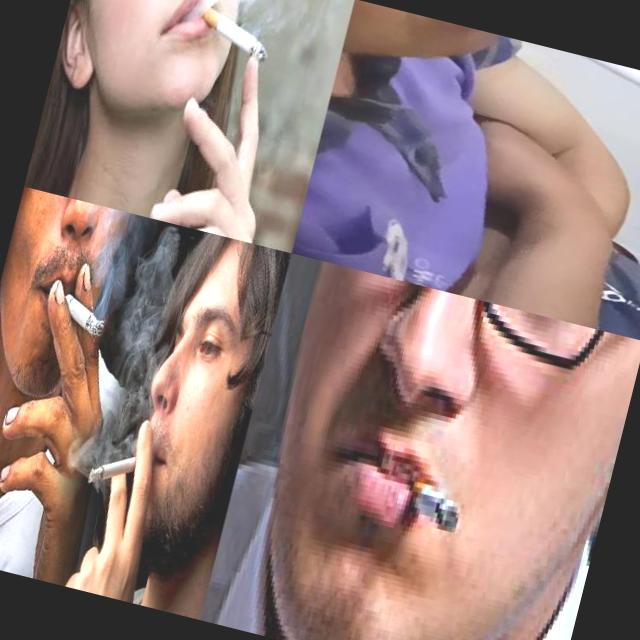smoke: (477, 31, 640, 109), (188, 1, 276, 65), (85, 438, 154, 498), (402, 478, 466, 534), (55, 292, 109, 339)
